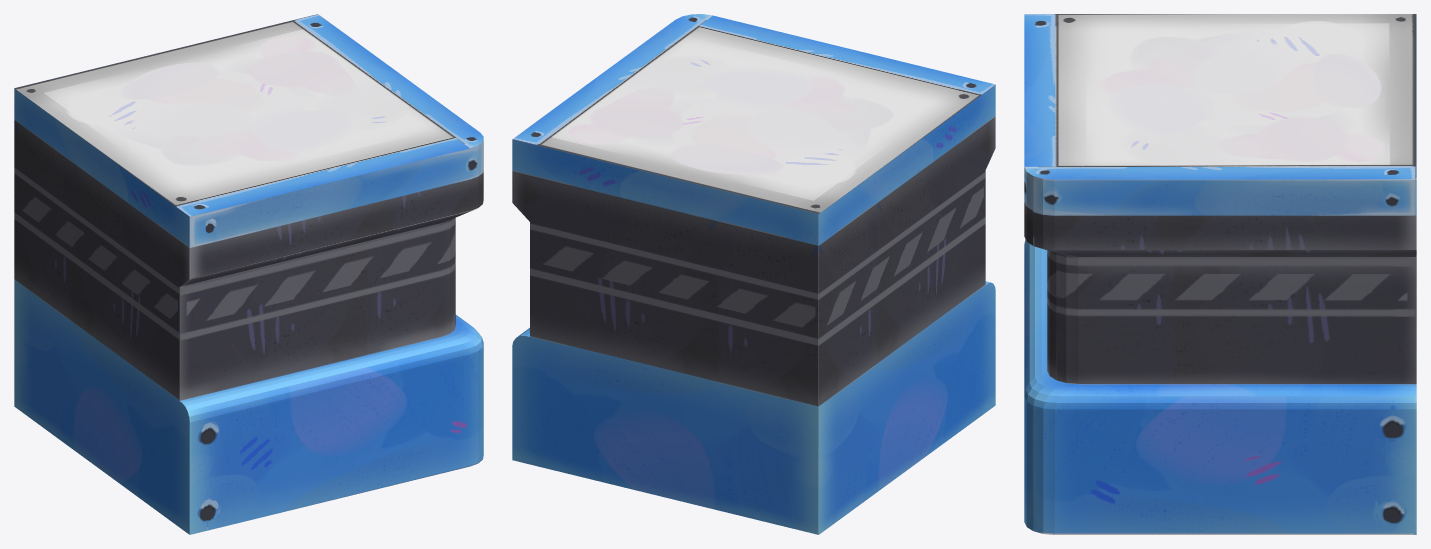
File: TestCube_4.2.glb
3 views of the same model, side by side, from view 1: azimuth 30°, elevation 25°; view 2: azimuth 150°, elevation 25°; view 3: azimuth 270°, elevation 25° (orthographic). The views are drawn at different scales.
Visible parts, largest first — view 1: TestCube_4.2; view 2: TestCube_4.2; view 3: TestCube_4.2.
Part boxes in pixels (box(x1,y1,x2,y2)): TestCube_4.2: box(14, 14, 483, 534); TestCube_4.2: box(512, 14, 995, 534); TestCube_4.2: box(1024, 14, 1416, 534).
Bounding box in the file's own units: 1 × 1 × 1.
1 material, 1 textured.
